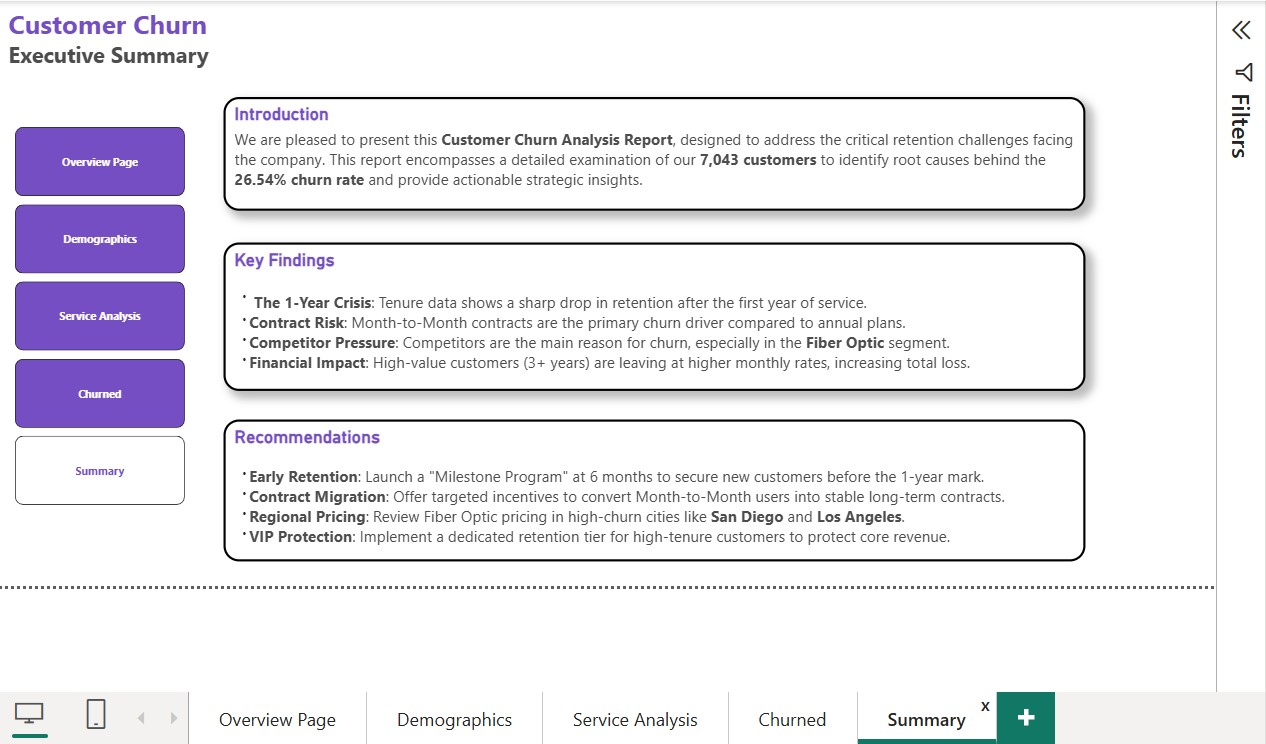

The page's visual inventory and layout, read from the dashboard file:
{"tool":"powerbi","page":{"name":"Summary","canvas":[1500,720],"ordinal":4},"visuals":[{"type":"textbox","box":[9.5,0,478.8,101.8],"z":0},{"type":"textbox","title":"Introduction","box":[278.4,117.7,1060.9,140],"z":1000},{"type":"textbox","title":"Key Findings","box":[278.4,297.4,1060.9,182.9],"z":2000},{"type":"textbox","title":"Recommendations","box":[278.4,515.4,1060.9,175],"z":3000},{"type":"pageNavigator","box":[22.3,155.9,210,466],"z":4000}]}

Visuals, with their boxes in screenshot pixels (x1, y1, x2, y2):
textbox: (4,0,389,82)
"Introduction" textbox: (220,94,1072,207)
"Key Findings" textbox: (220,239,1072,386)
"Recommendations" textbox: (220,414,1072,554)
pageNavigator: (15,125,183,499)
